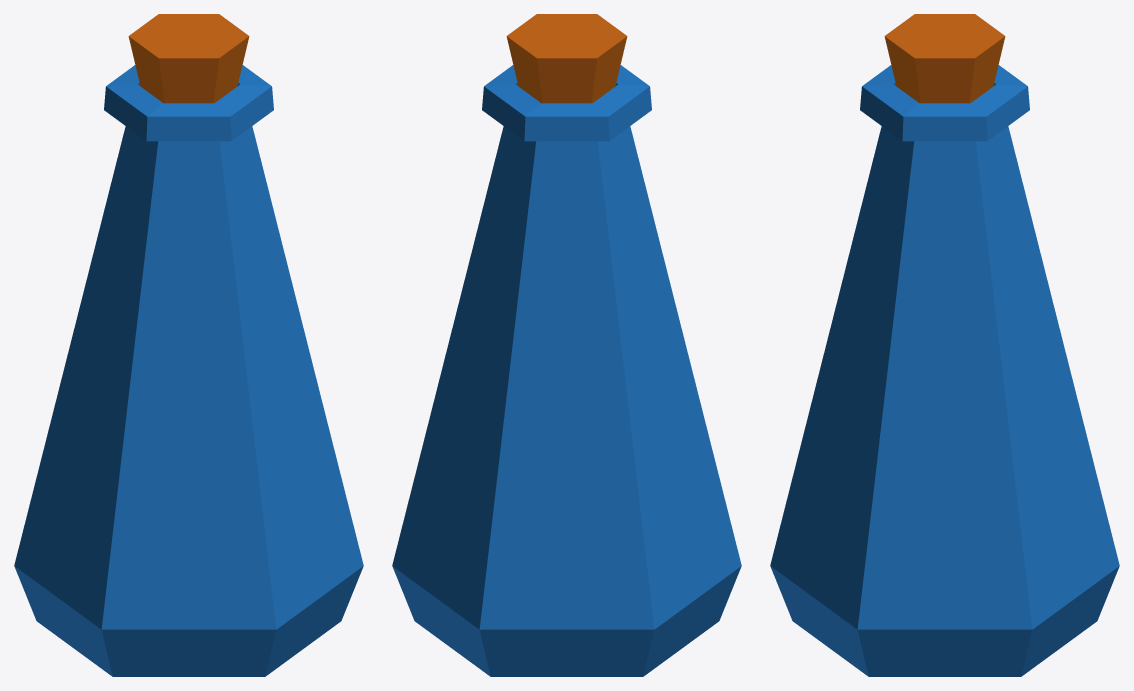
Rendered from bottle-alchemy-f.fbx.
3 renders of one model, left to right at view 1: azimuth 30°, elevation 25°; view 2: azimuth 150°, elevation 25°; view 3: azimuth 270°, elevation 25°, orthographic.
Parts seen in each view (by area): view 1: bottle-alchemy-f; view 2: bottle-alchemy-f; view 3: bottle-alchemy-f.
Part boxes in pixels (bbox=[...]): bottle-alchemy-f: bbox=[14, 14, 363, 676]; bottle-alchemy-f: bbox=[392, 14, 741, 676]; bottle-alchemy-f: bbox=[770, 14, 1119, 676].
Bounding box in the file's own units: 76.67 × 163 × 88.53.
